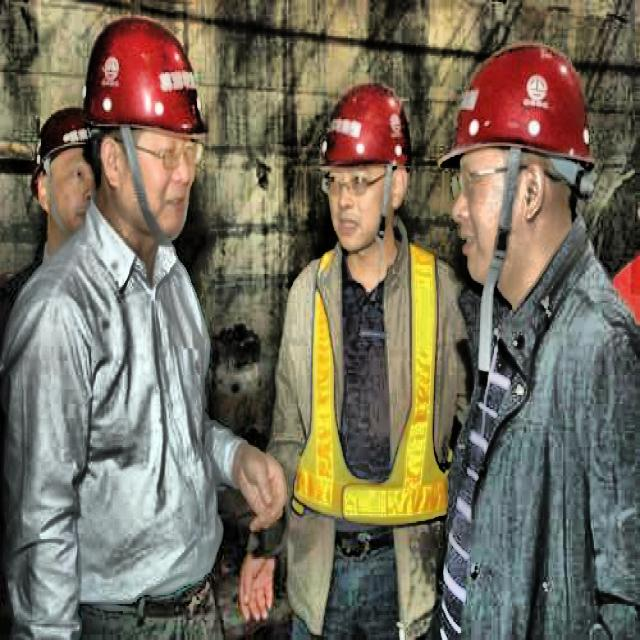helmet: (444, 38, 597, 299), (84, 14, 208, 246), (316, 79, 410, 256), (33, 105, 96, 245)
